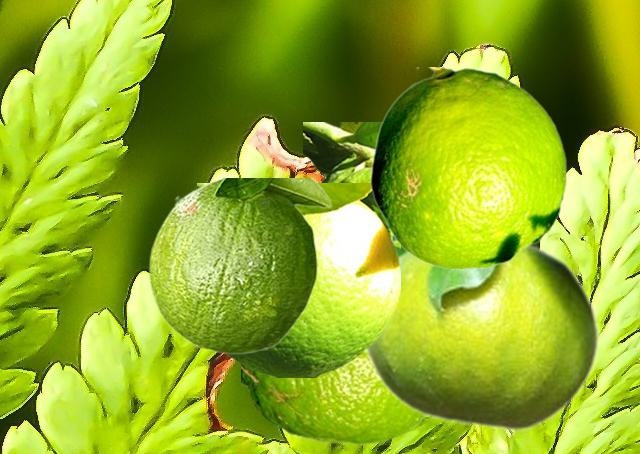dalandan: (363, 243, 599, 431), (370, 67, 566, 269), (197, 183, 399, 376), (148, 178, 331, 353), (241, 355, 427, 443), (303, 122, 380, 182)
